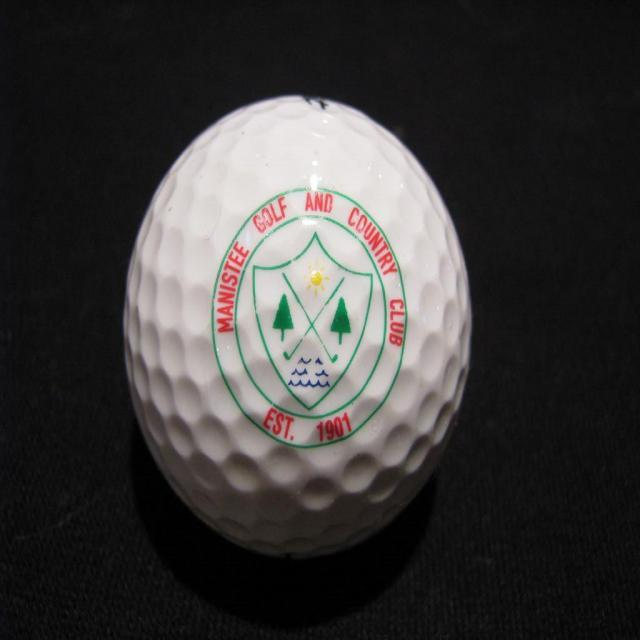GolfBall: (98, 75, 481, 568)
